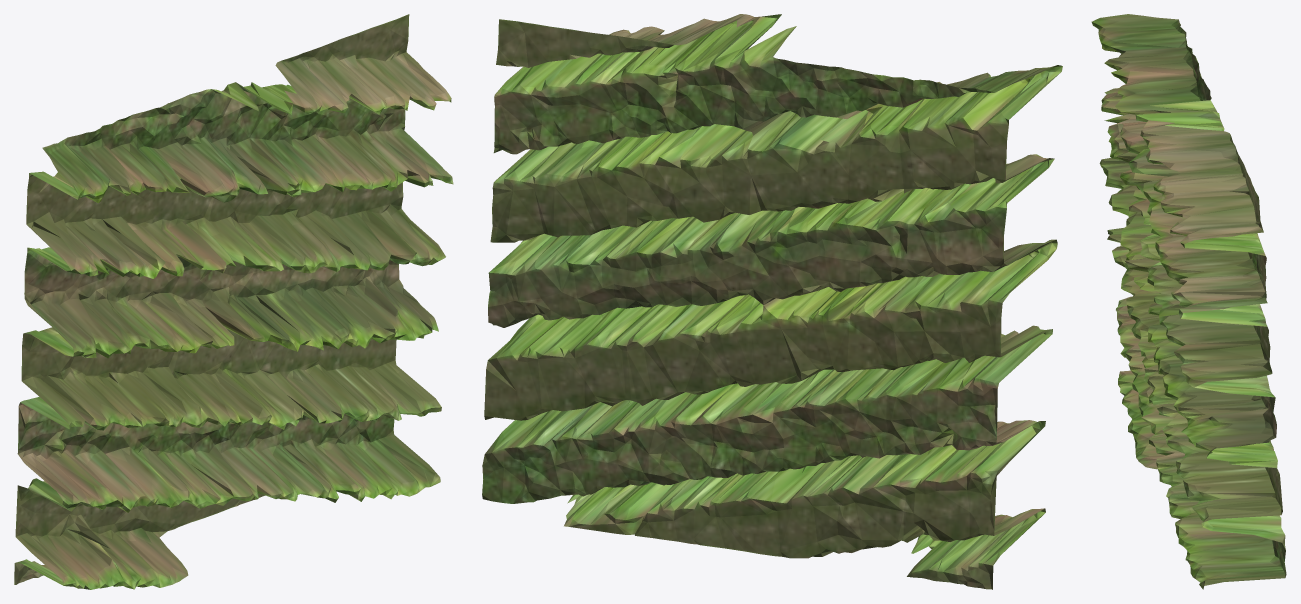
The model's file is map_220_0.obj.
3 views of the same model, side by side, from view 1: azimuth 30°, elevation 25°; view 2: azimuth 150°, elevation 25°; view 3: azimuth 270°, elevation 25° (orthographic). The views are drawn at different scales.
Visible parts, largest first — view 1: grp1; view 2: grp1; view 3: grp1.
Boxes of the visible parts, x1=… form: grp1: x1=14, y1=14, x2=453, y2=589; grp1: x1=482, y1=14, x2=1062, y2=589; grp1: x1=1091, y1=14, x2=1286, y2=589.
Size of the model in its own units: 10 by 10 by 4.5.
1 material, 1 textured.
